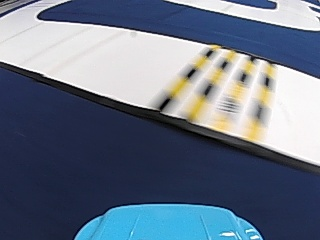bump: (154, 43, 277, 134)
